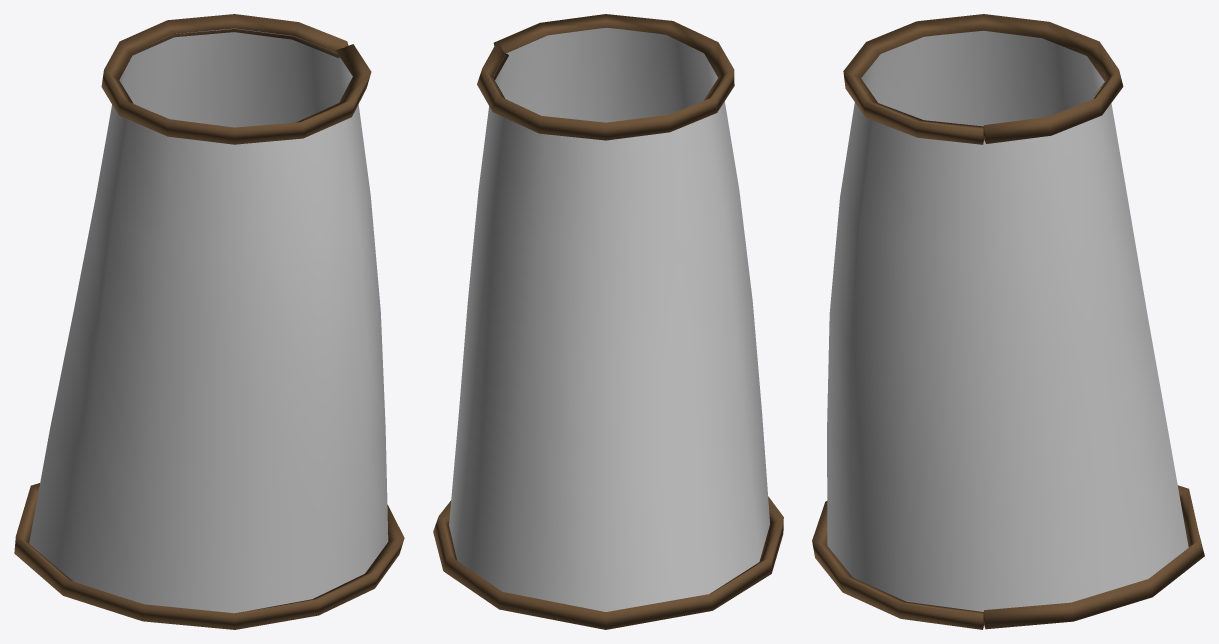
File: timber_armor_cuisse.R.glb
3 views of the same model, side by side, from view 1: azimuth 30°, elevation 25°; view 2: azimuth 150°, elevation 25°; view 3: azimuth 270°, elevation 25° (orthographic). The views are drawn at different scales.
Parts seen in each view (by area): view 1: timber_armor_cuisse.R; view 2: timber_armor_cuisse.R; view 3: timber_armor_cuisse.R.
Part boxes in pixels (box(x1,y1,x2,y2)): timber_armor_cuisse.R: box(14, 14, 404, 629); timber_armor_cuisse.R: box(433, 14, 783, 629); timber_armor_cuisse.R: box(812, 14, 1204, 629).
Size of the model in its own units: 0.2685 by 0.3856 by 0.2809.
